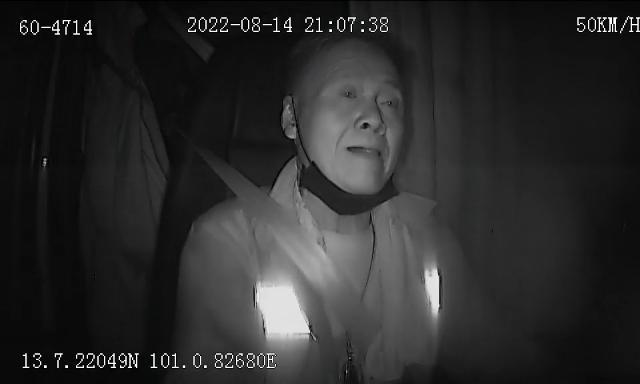SafeDriving: (334, 78, 364, 108), (373, 84, 402, 115)
Seatbelt: (174, 92, 408, 384)
